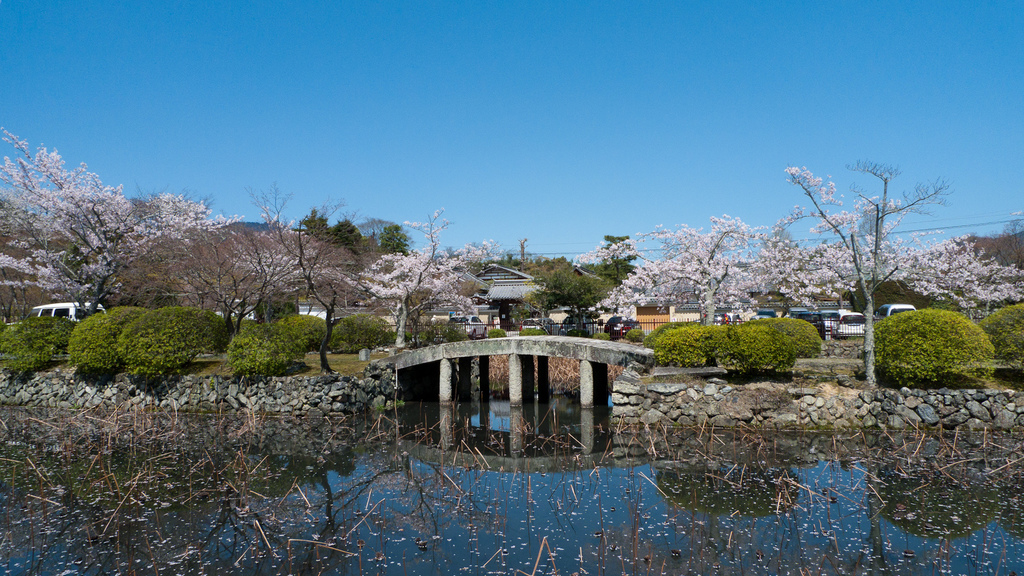Tree: (0, 124, 243, 319), (779, 160, 955, 400), (101, 222, 369, 345), (572, 214, 784, 335), (373, 204, 509, 359), (884, 229, 1013, 324), (303, 214, 364, 264), (589, 230, 638, 288), (369, 219, 417, 263)
